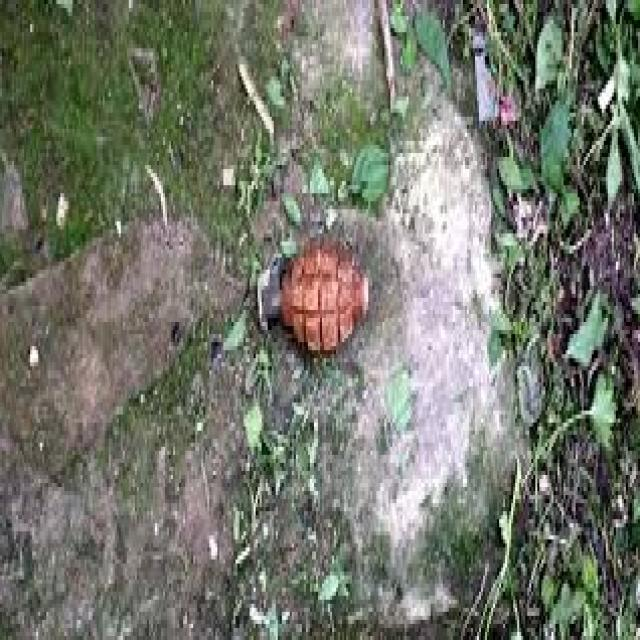grenade: (253, 242, 373, 353)
